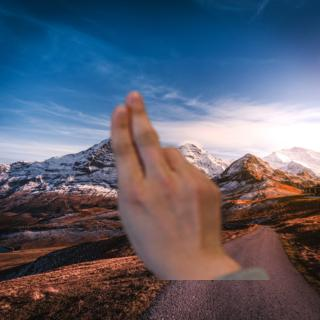DHAVE: (105, 89, 226, 268)
